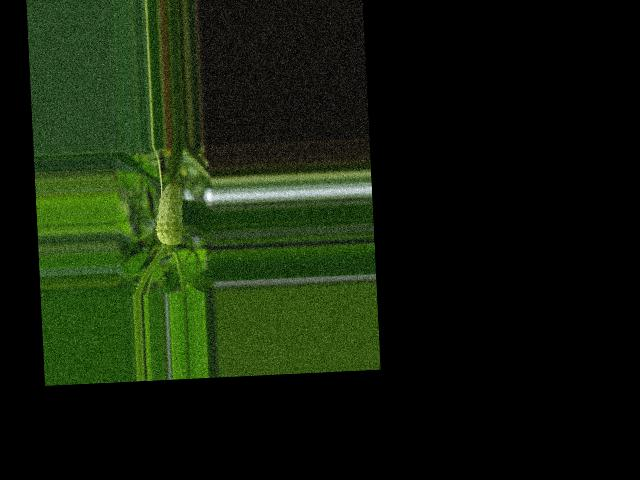cucumber: (153, 179, 184, 246)
